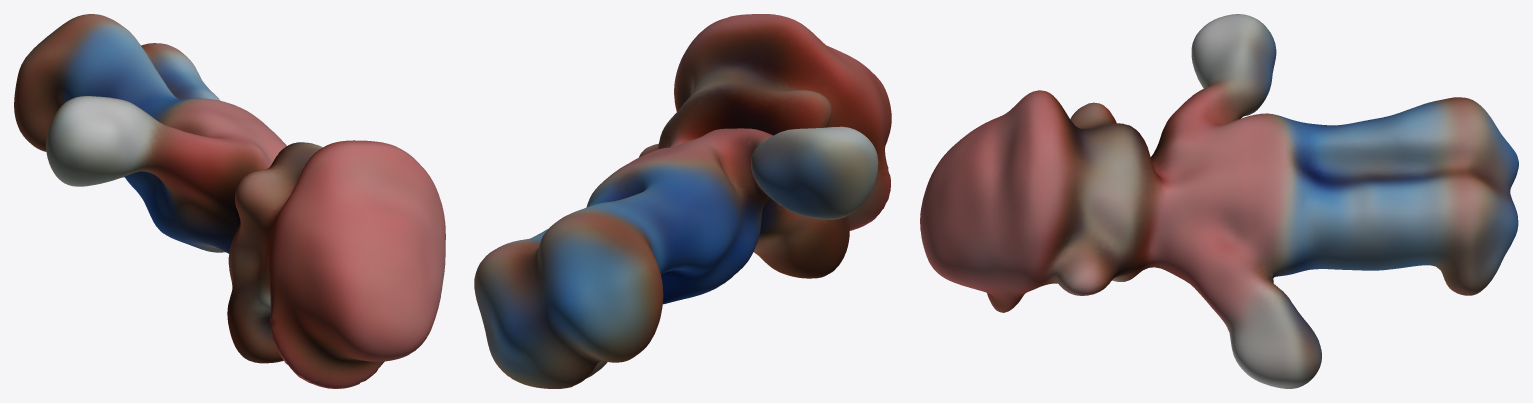
Rendered from mario.glb.
3 renders of one model, left to right at view 1: azimuth 30°, elevation 25°; view 2: azimuth 150°, elevation 25°; view 3: azimuth 270°, elevation 25°, orthographic. The views are drawn at different scales.
Size of the model in its own units: 0.5613 by 0.4865 by 0.9996.
